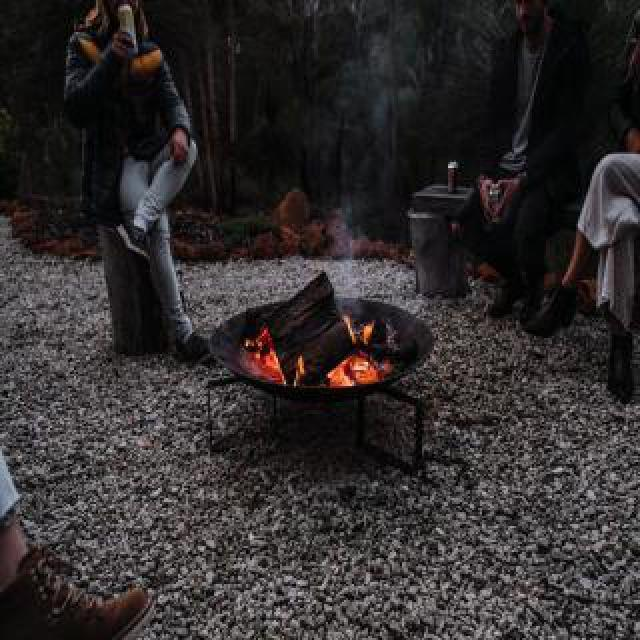Fire: (324, 296, 374, 392)
Smoke: (314, 28, 398, 292)
